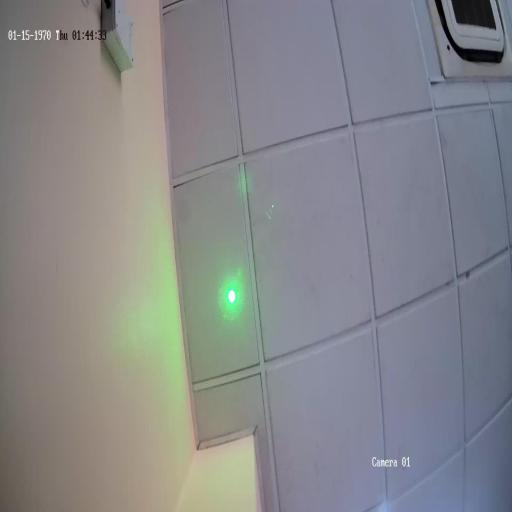laser: (224, 285, 237, 306)
